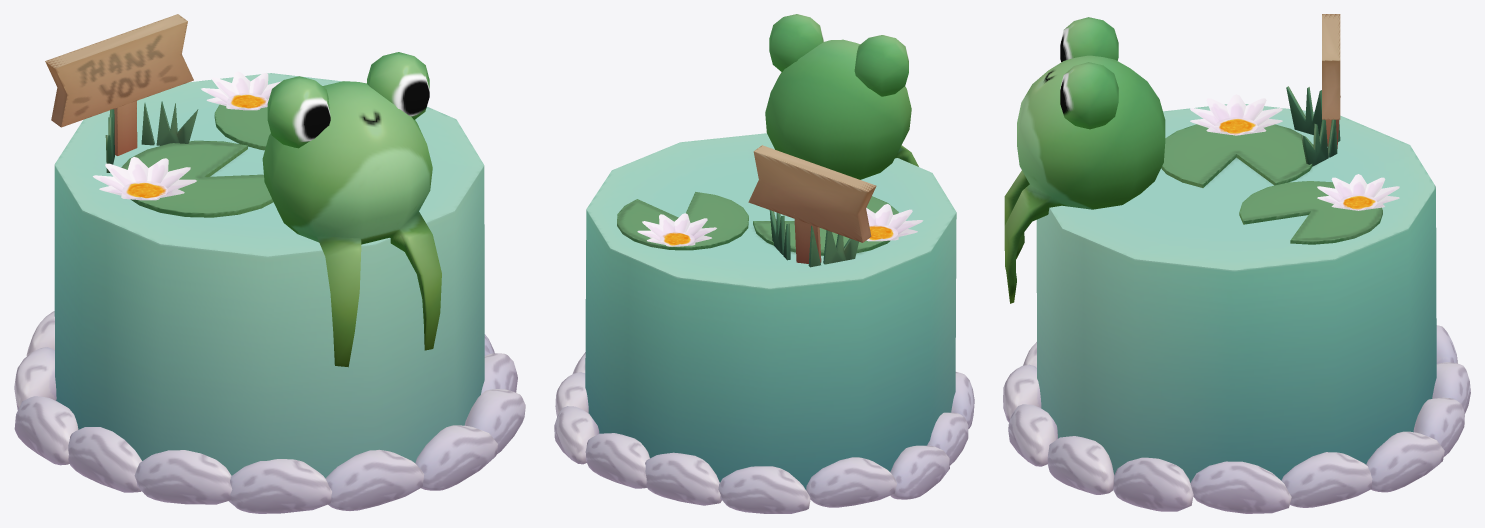
3 renders of one model, left to right at view 1: azimuth 30°, elevation 25°; view 2: azimuth 150°, elevation 25°; view 3: azimuth 270°, elevation 25°, orthographic. The views are drawn at different scales.
Visible parts, largest first — view 1: Cake, FrogBody, Signtop, Lilypad2, Frosting1, Frosting, Frosting2, Frosting3, EyeLeft, Frosting5, Frosting14, EyeRight (+9 smaller); view 2: Cake, FrogBody, Signtop, Lilypad, Frosting12, Frosting13, Frosting11, Frosting10, EyeLeft, Frosting14, EyeRight, Frosting9 (+9 smaller); view 3: Cake, FrogBody, Lilypad2, Lilypad, Frosting7, Frosting8, Frosting6, Frosting9, EyeRight, Frosting4, pCylinder2, Frosting3 (+9 smaller).
Part boxes in pixels (x1=…): Cake: x1=54, y1=73, x2=484, y2=478; FrogBody: x1=262, y1=81, x2=441, y2=367; Signtop: x1=45, y1=14, x2=193, y2=127; Lilypad2: x1=121, y1=140, x2=273, y2=217; Frosting1: x1=228, y1=459, x2=331, y2=513; Frosting: x1=134, y1=450, x2=232, y2=504; Frosting2: x1=325, y1=449, x2=424, y2=510; Frosting3: x1=415, y1=425, x2=497, y2=490; EyeLeft: x1=267, y1=76, x2=330, y2=148; Frosting5: x1=68, y1=427, x2=141, y2=492; Frosting14: x1=14, y1=396, x2=78, y2=465; EyeRight: x1=367, y1=52, x2=429, y2=119; Cake: x1=585, y1=133, x2=956, y2=489; FrogBody: x1=765, y1=39, x2=918, y2=179; Signtop: x1=748, y1=145, x2=876, y2=242; Lilypad: x1=617, y1=192, x2=748, y2=250; Frosting12: x1=718, y1=466, x2=810, y2=513; Frosting13: x1=806, y1=457, x2=896, y2=507; Frosting11: x1=645, y1=452, x2=721, y2=505; Frosting10: x1=585, y1=433, x2=649, y2=488; EyeLeft: x1=854, y1=35, x2=908, y2=96; Frosting14: x1=890, y1=445, x2=949, y2=499; EyeRight: x1=769, y1=14, x2=823, y2=71; Frosting9: x1=554, y1=406, x2=599, y2=464; Cake: x1=1036, y1=104, x2=1436, y2=482; FrogBody: x1=1004, y1=55, x2=1165, y2=303; Lilypad2: x1=1161, y1=124, x2=1313, y2=187; Lilypad: x1=1239, y1=181, x2=1382, y2=244; Frosting7: x1=1190, y1=461, x2=1291, y2=513; Frosting8: x1=1281, y1=452, x2=1372, y2=507; Frosting6: x1=1113, y1=457, x2=1193, y2=511; Frosting9: x1=1366, y1=431, x2=1444, y2=492; EyeRight: x1=1060, y1=62, x2=1118, y2=129; Frosting4: x1=1047, y1=436, x2=1113, y2=494; pCylinder2: x1=1190, y1=94, x2=1282, y2=135; Frosting3: x1=1008, y1=404, x2=1057, y2=466.
Size of the model in its own units: 319 by 293 by 321.
Materials: 5 (5 with a texture image).
